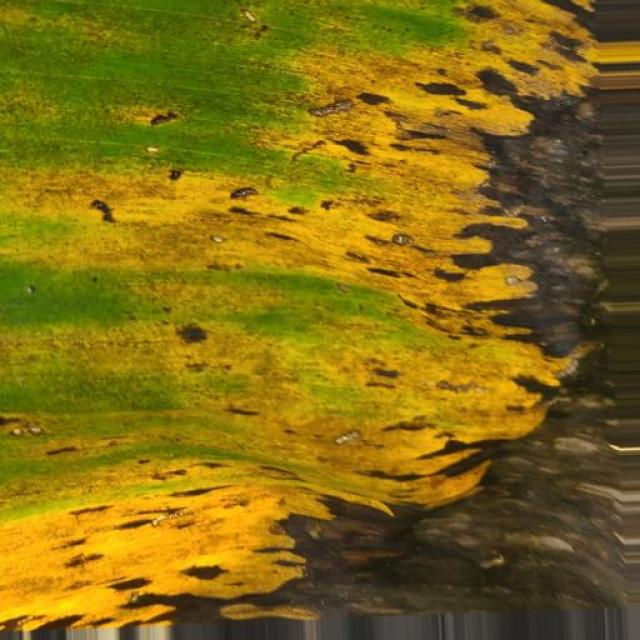Early_rust: (0, 0, 597, 640)
